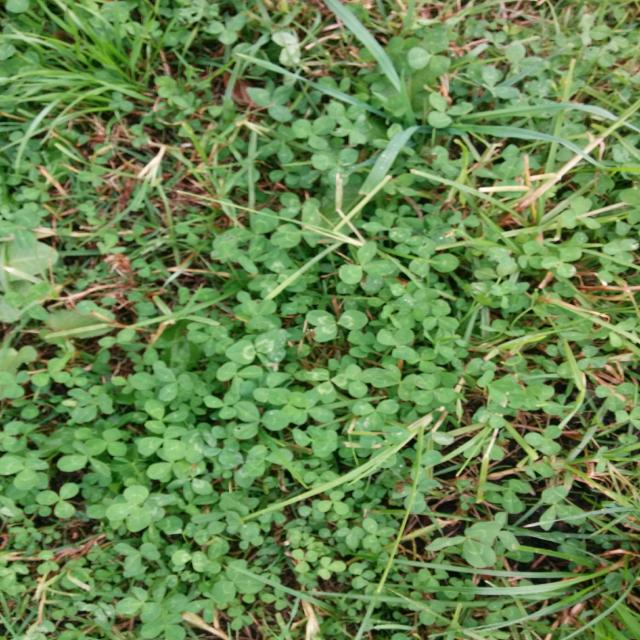Four Leaf Clover: (371, 365, 416, 401)
